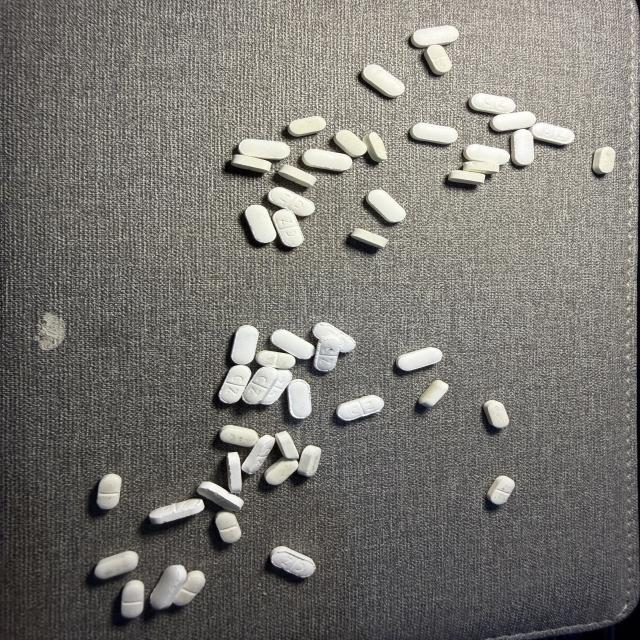pill: (150, 565, 186, 609), (270, 546, 315, 577), (362, 65, 405, 97), (149, 499, 204, 524), (268, 187, 314, 216), (197, 482, 243, 511), (270, 330, 315, 359), (242, 435, 275, 474), (366, 190, 406, 222), (243, 367, 277, 404), (336, 395, 384, 421), (312, 323, 355, 352), (94, 551, 138, 579), (219, 365, 251, 403), (245, 205, 276, 243), (273, 209, 303, 247), (173, 571, 205, 606), (302, 149, 352, 171), (238, 139, 290, 160), (261, 370, 292, 405), (396, 347, 442, 370), (231, 325, 258, 364), (530, 122, 575, 145), (412, 26, 459, 48), (410, 123, 458, 144), (463, 144, 510, 165), (287, 379, 311, 419), (264, 457, 298, 485), (469, 94, 515, 114), (120, 580, 144, 618), (314, 336, 340, 371), (334, 130, 367, 157), (490, 112, 536, 131), (278, 165, 317, 187), (511, 129, 534, 166), (97, 474, 121, 509), (215, 511, 241, 543), (424, 45, 451, 75), (220, 425, 258, 446), (487, 476, 514, 505), (419, 380, 448, 407), (274, 431, 300, 460), (297, 445, 321, 476), (351, 228, 388, 248), (288, 117, 326, 136), (363, 132, 387, 162), (231, 155, 271, 173), (256, 351, 295, 369), (484, 400, 508, 428), (227, 452, 242, 493), (593, 147, 615, 174), (448, 170, 485, 184), (463, 161, 499, 174)
